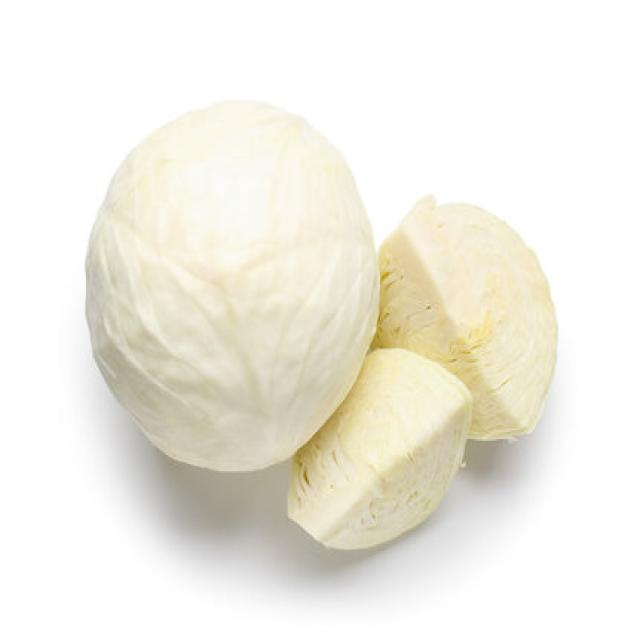Cabbage: (83, 96, 380, 473), (373, 192, 558, 443), (285, 345, 472, 551)
